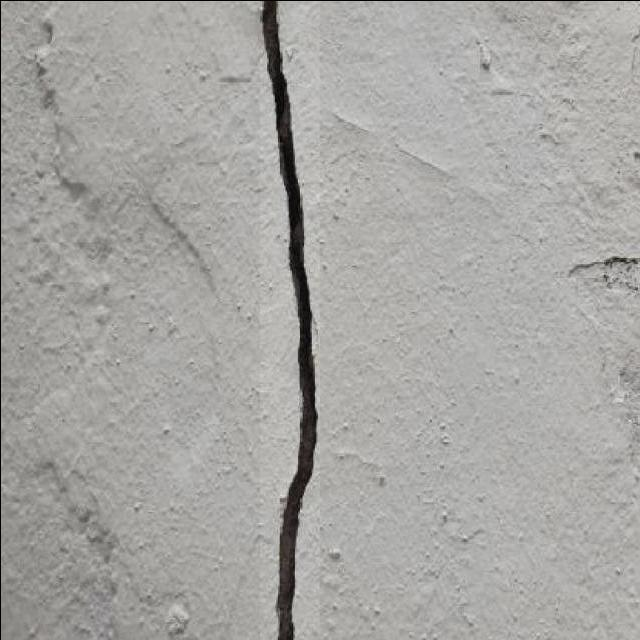crack: (257, 0, 319, 639)
dampness: (0, 151, 220, 640)
